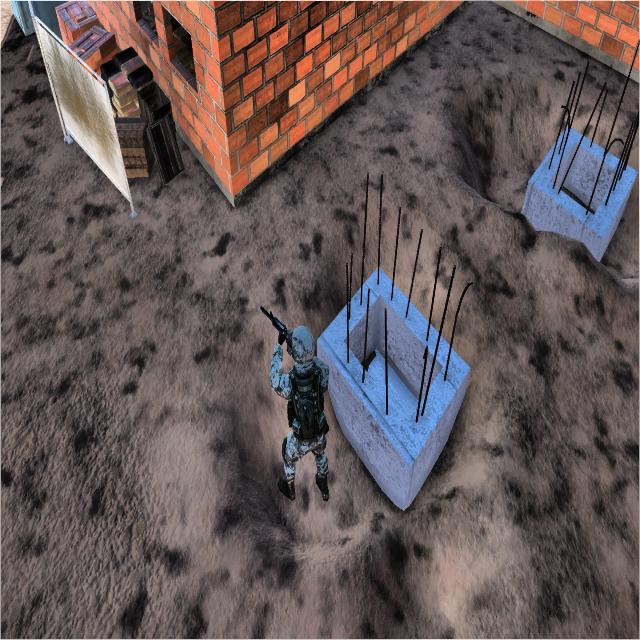bad: (255, 292, 340, 518)
